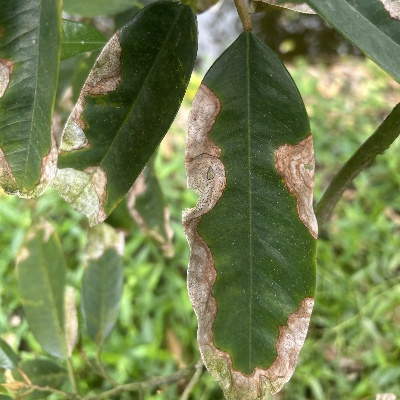Leaf_Colletotrichum: (180, 25, 320, 399)
